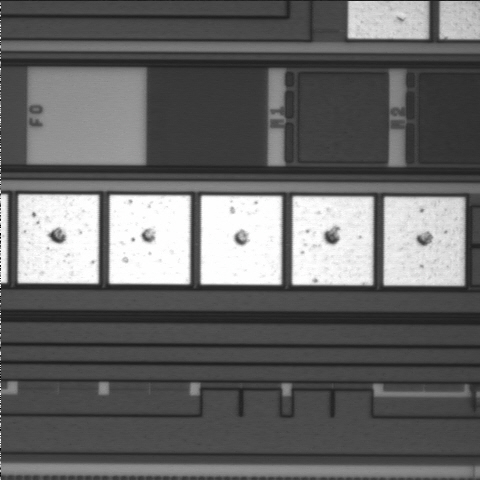pad: (18, 195, 99, 284), (109, 195, 190, 284), (201, 196, 282, 285), (292, 196, 373, 285), (384, 197, 465, 286)
